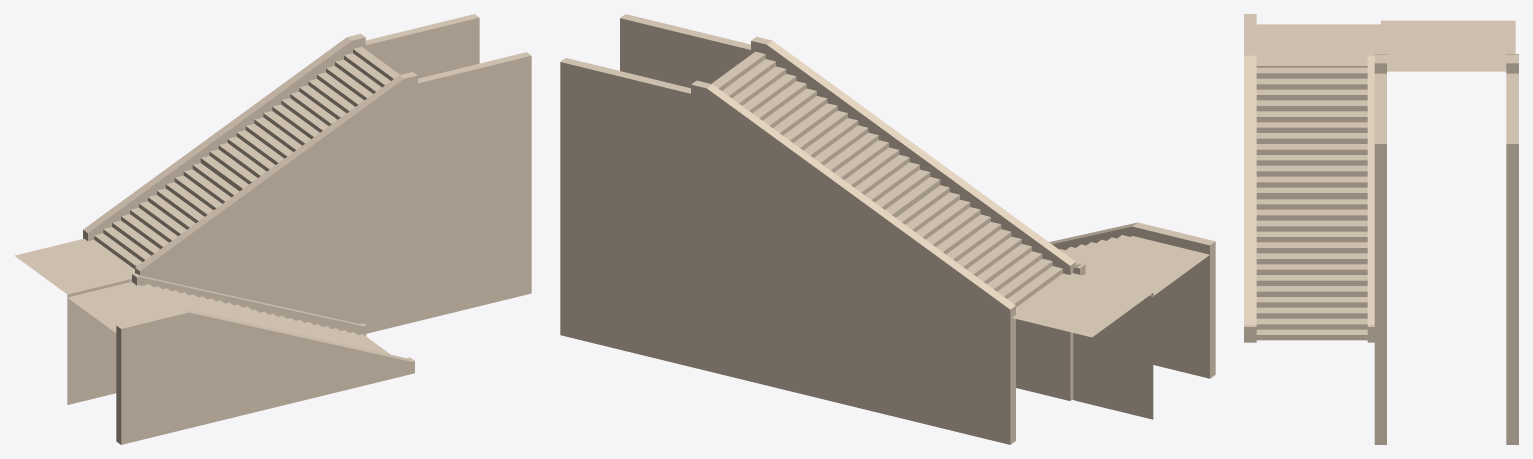
File: BC_InsideStair_A.fbx
The picture shows the model from 3 angles, left to right: view 1: azimuth 30°, elevation 25°; view 2: azimuth 150°, elevation 25°; view 3: azimuth 270°, elevation 25°; orthographic projection. The views are drawn at different scales.
Visible parts, largest first — view 1: BC_InsideStair_A; view 2: BC_InsideStair_A; view 3: BC_InsideStair_A.
Boxes of the visible parts, bbox=[...] form: BC_InsideStair_A: bbox=[15, 14, 531, 444]; BC_InsideStair_A: bbox=[560, 14, 1215, 444]; BC_InsideStair_A: bbox=[1244, 14, 1518, 444].
Bounding box in the file's own units: 2484 × 1269 × 1010.
